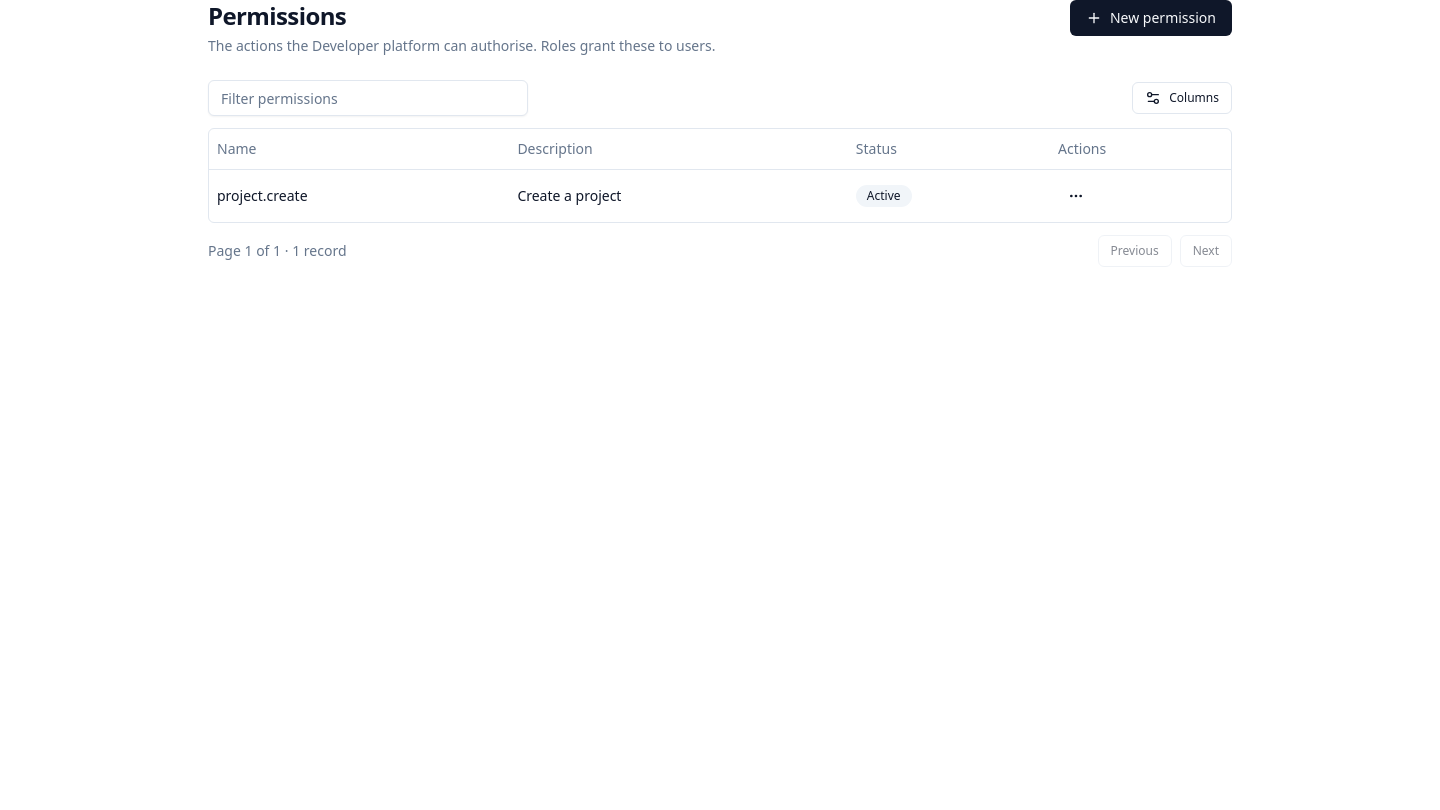
it: PermissionsPage — deactivation (FR-UI7, D-5) › confirms before deactivating, saying what actually changes
The image size is (1440, 810).
Step 1. Click the button named "actions for project.create" → (1076,196), box [1058, 178, 1094, 214]
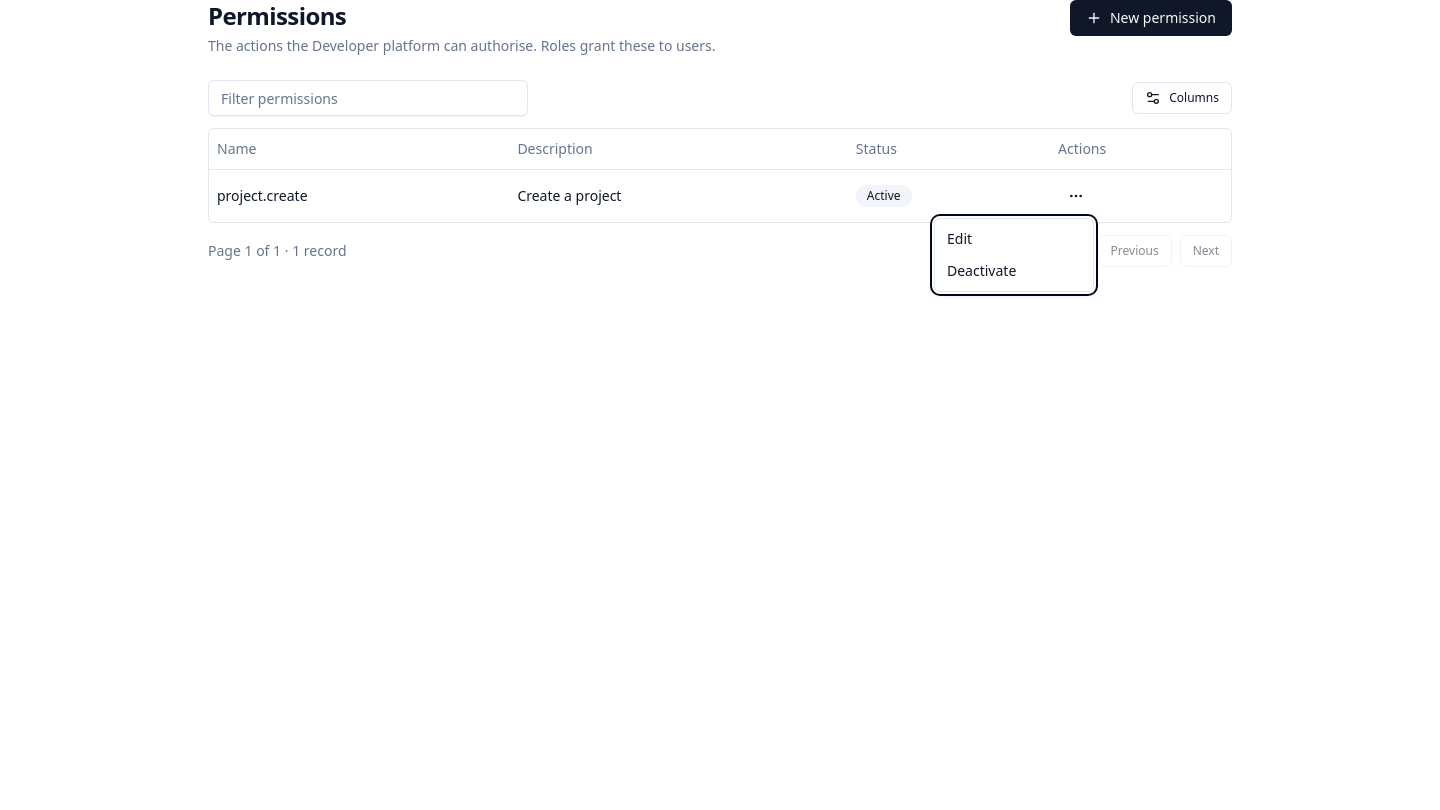
Step 2. Click the menu item "Deactivate" → (982,270), box [947, 261, 1016, 280]
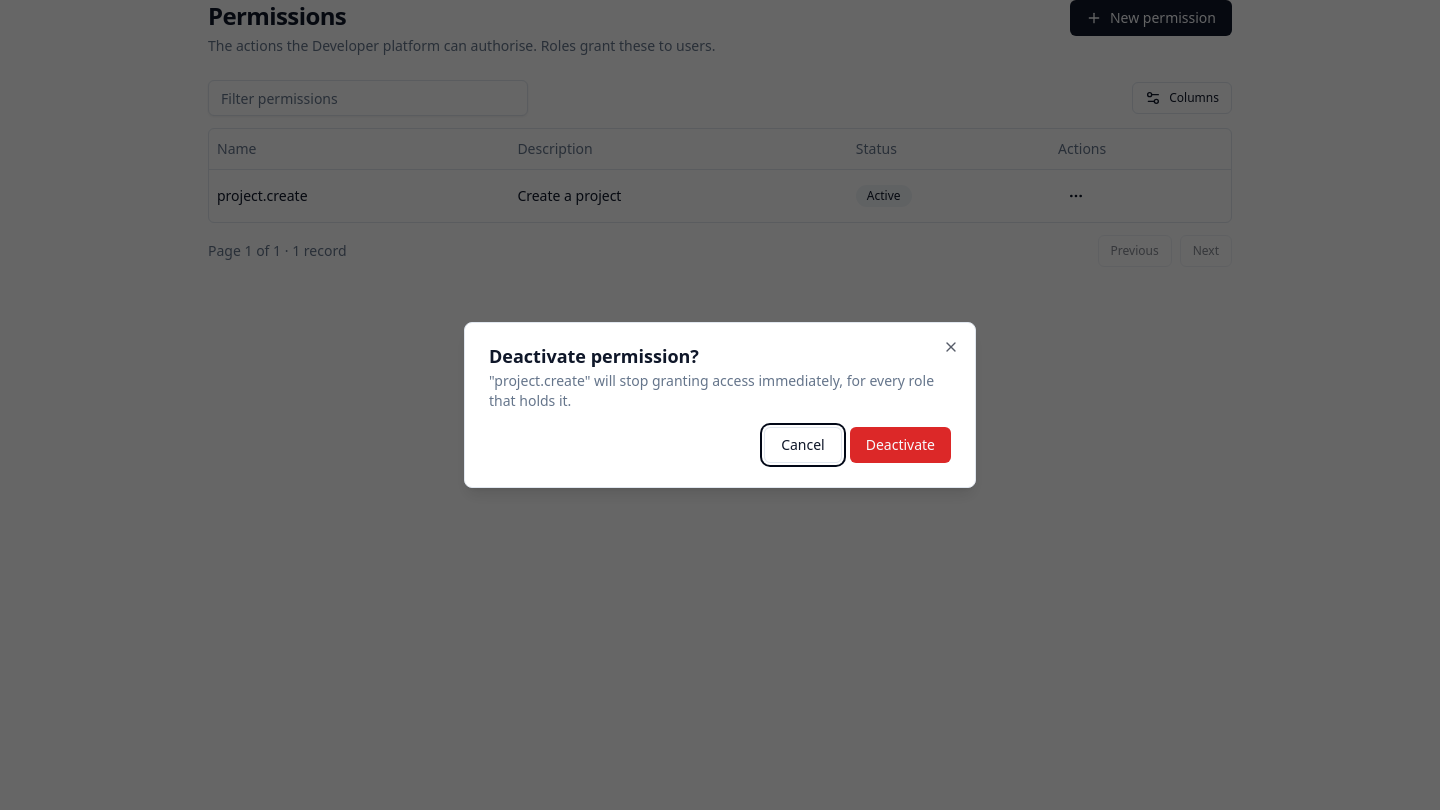
Result: the text "stop granting access immediately" is shown at [489, 371, 934, 410]
